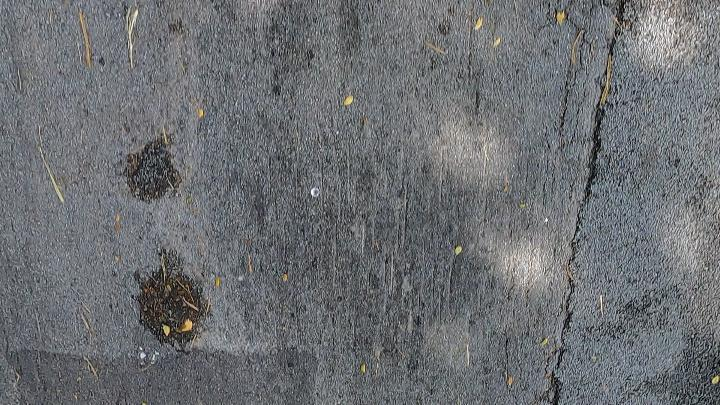Crack: (547, 0, 631, 404), (551, 0, 631, 404)
Pothole: (129, 245, 205, 355), (135, 247, 207, 347), (122, 134, 186, 203), (125, 133, 181, 201)
